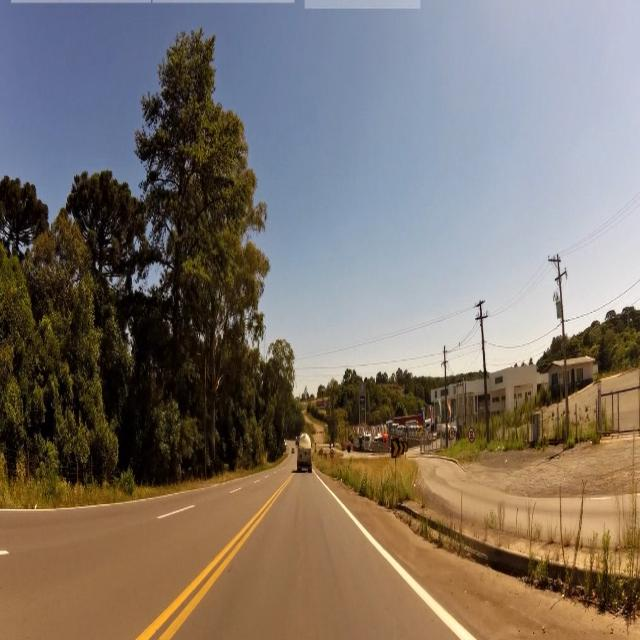Del: (391, 440, 399, 458)
